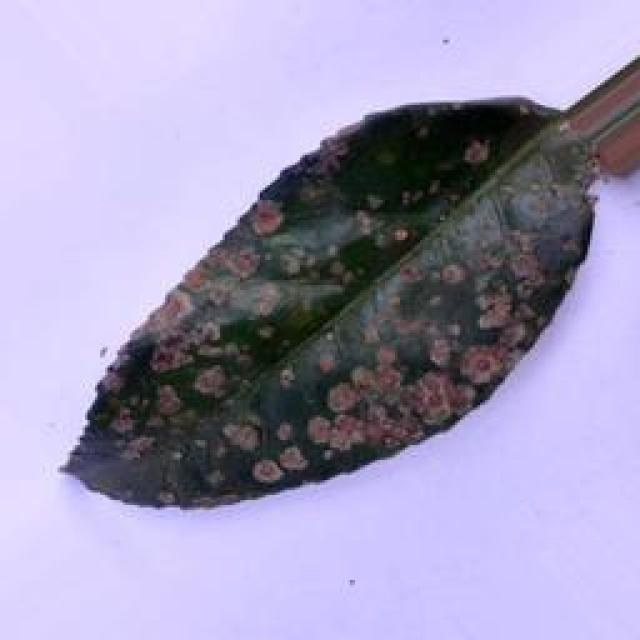Algal Leaf Spot: (50, 89, 596, 518)
